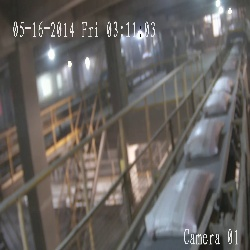cementbag: (144, 168, 212, 237), (184, 117, 225, 155), (202, 92, 231, 115), (211, 76, 234, 92)
